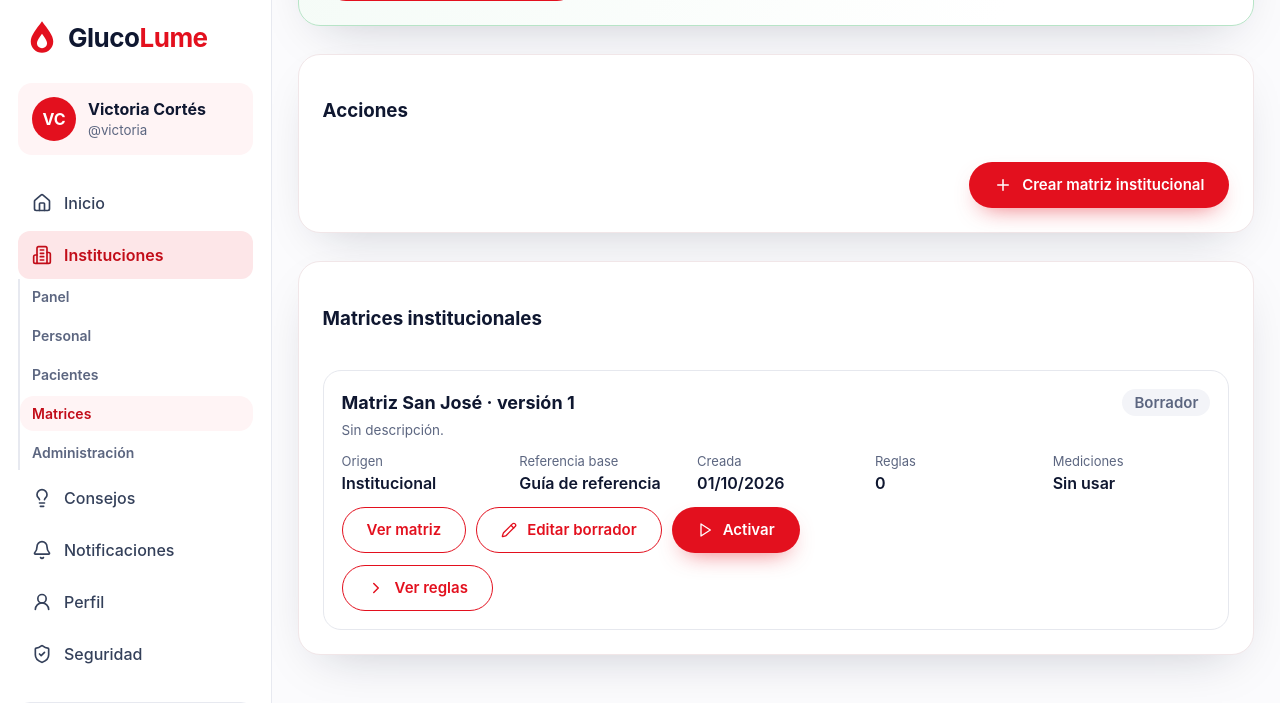
Test: Matrices institucionales › si el servidor rechaza la activación se informa el motivo y no cambia lo vigente
(page scrolled)
Click the button with aria-label "Activar Matriz San José versión 1". click: x=736, y=530
box: [672,507,800,553]
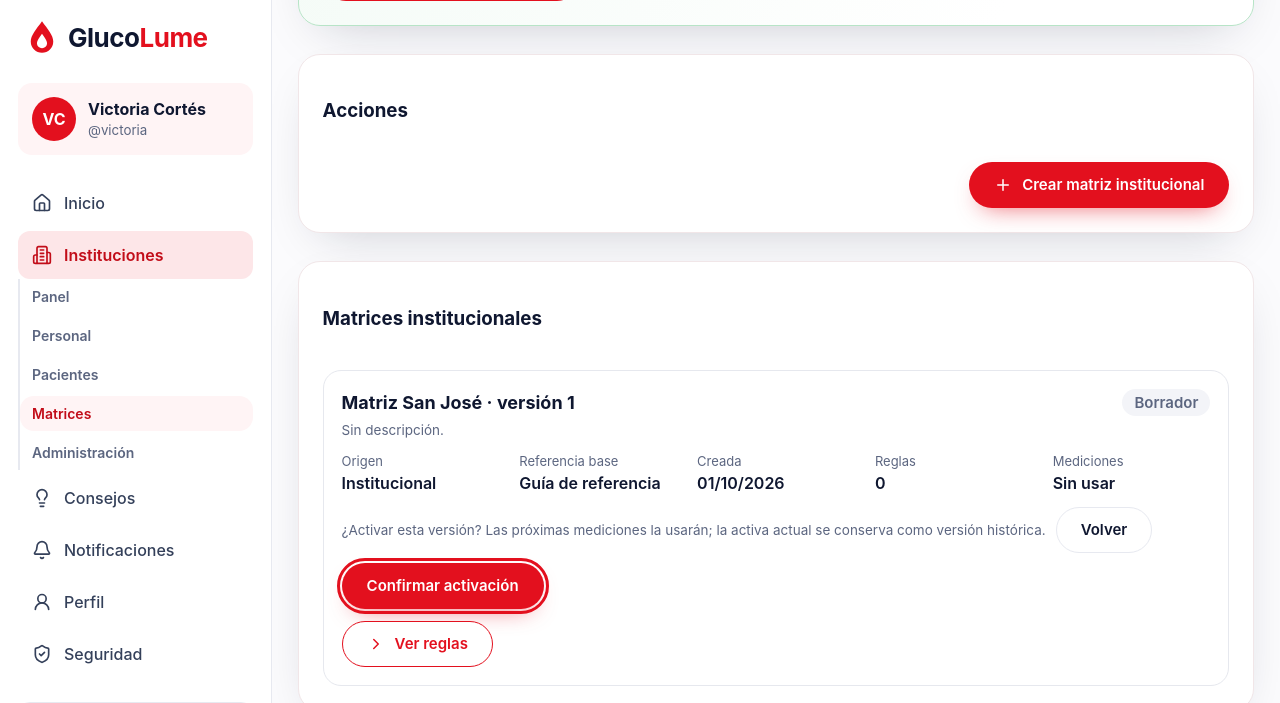
Click the button "Confirmar activación". click: x=443, y=586
box: [342,563,544,609]
(page scrolled)
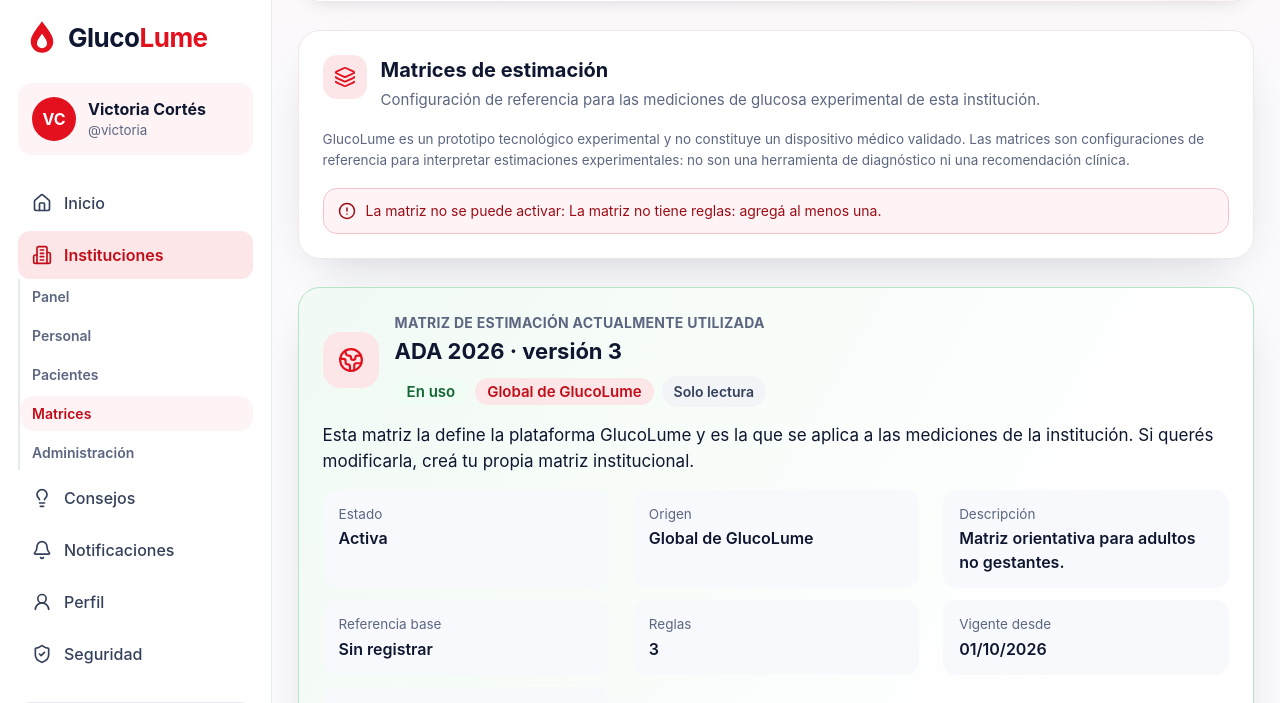
Expected: the heading "ADA 2026 · versión 3" is shown, [395,338,622,364]
Expected: the text "no tiene reglas" is shown, [366,202,882,219]
